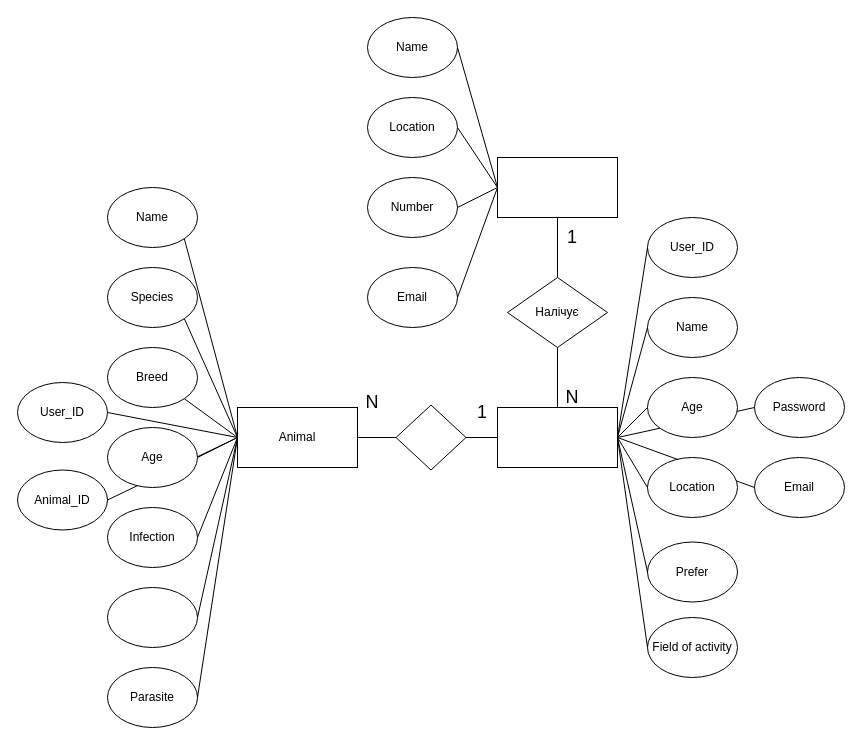
The diagram is 862 pixels wide and 745 high, and some of its shapes have lost their labels. Each missing label, with the centre of its shape:
"Shelter" belongs at point 557,187.
"User" belongs at point 557,437.
"Vaccine" belongs at point 152,617.
"Має" belongs at point 430,437.
